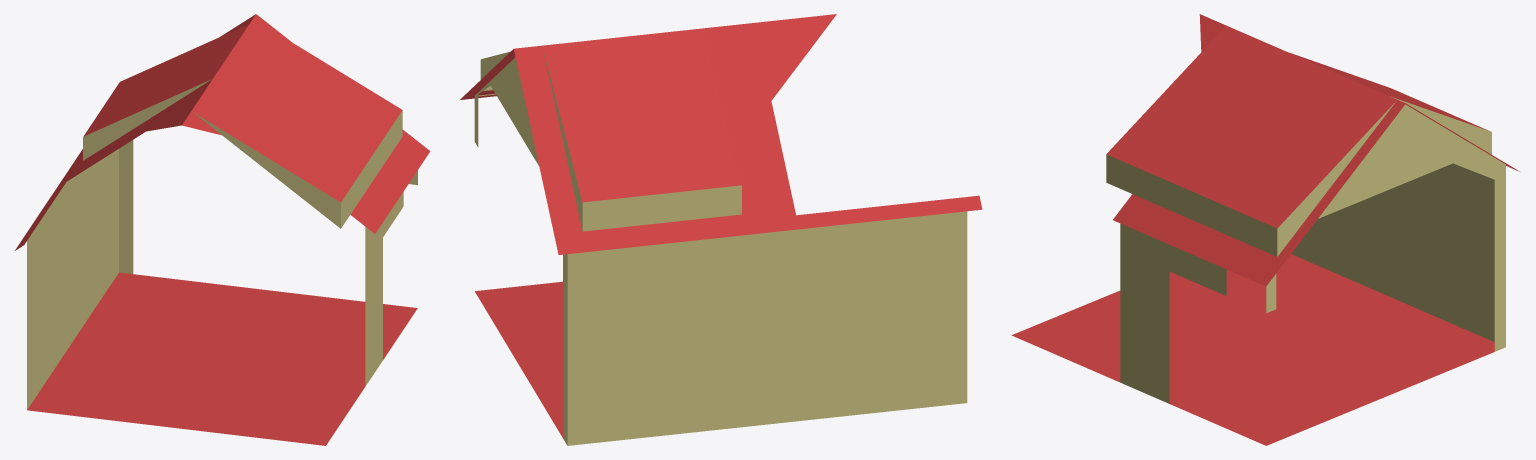
3 renders of one model, left to right at view 1: azimuth 30°, elevation 25°; view 2: azimuth 150°, elevation 25°; view 3: azimuth 270°, elevation 25°, orthographic. The views are drawn at different scales.
Bounding box in the file's own units: 23.96 × 23.22 × 14.63.
